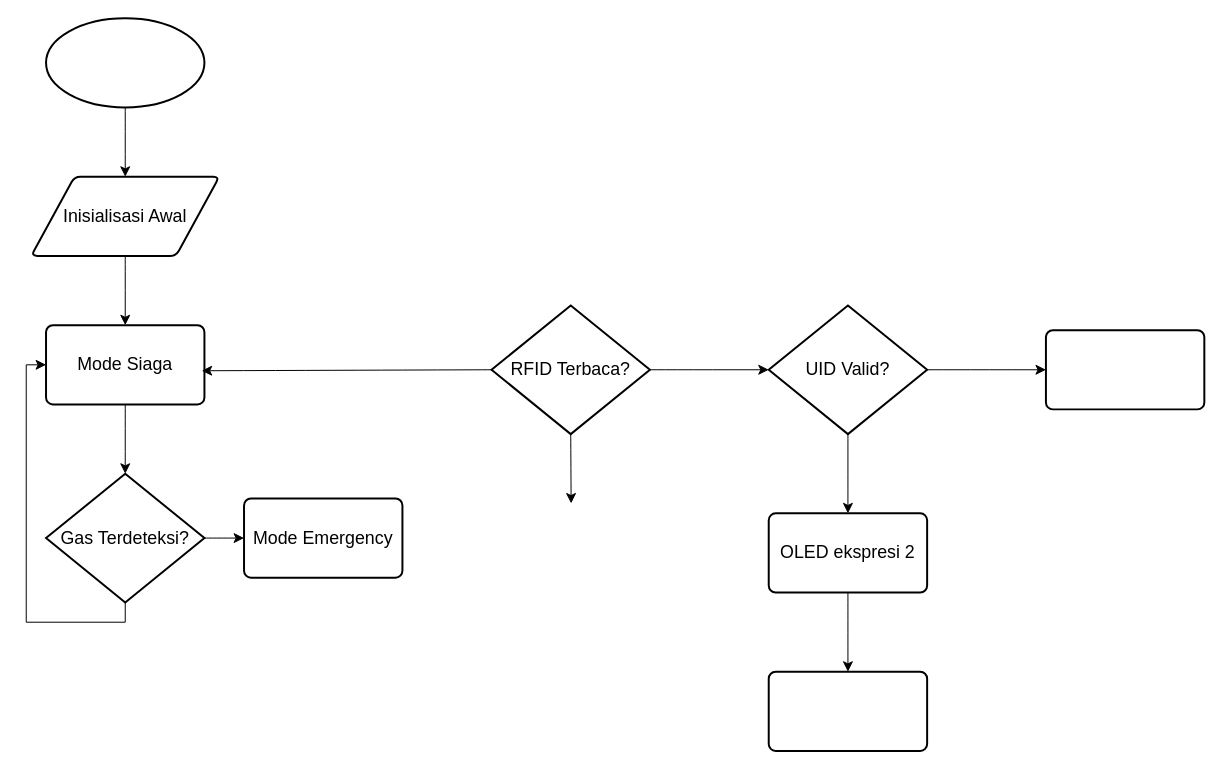
Image size: 1223x768. Some labels were removed from this diagram. The shapes that lost their labels are listed below. From the top down, each one's centre as x and y in pixels, then its label:
At pixel 125 62: "Start".
At pixel 1124 369: "OLED ekspresi 3".
At pixel 847 710: "Putar Servo 180°".
